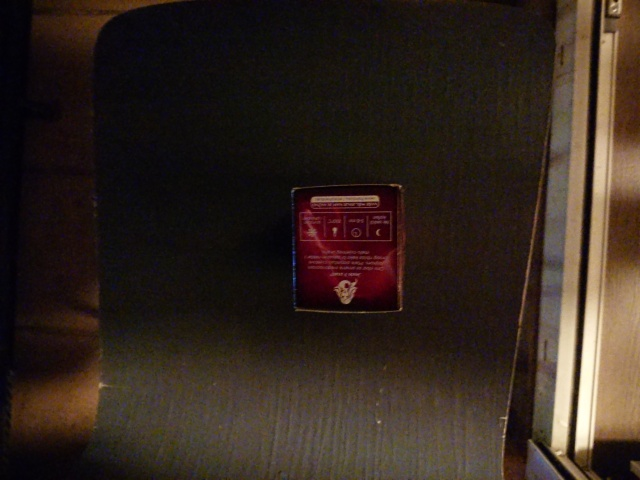Franck Black Currant Tea 60g: (288, 179, 409, 317)
